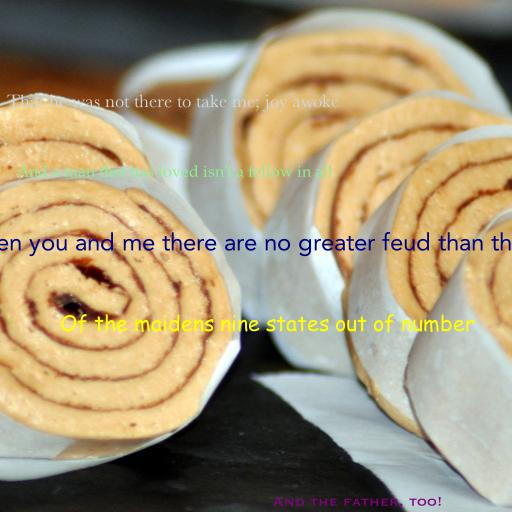Avenir: (0, 231, 512, 257)
Baskerville: (7, 94, 339, 112)
Comic Sans MS: (59, 314, 475, 333)
Copperplate: (272, 497, 442, 509)
Palatino: (17, 164, 333, 178)
